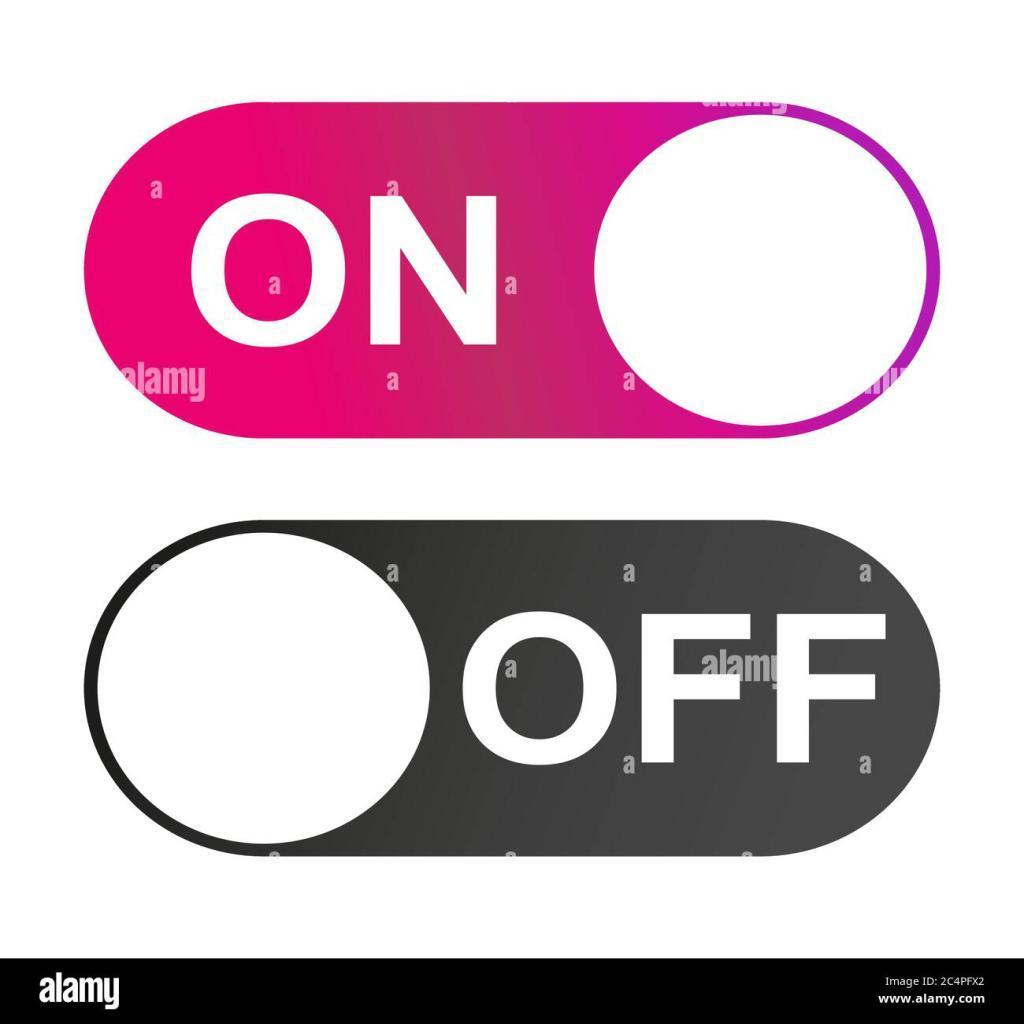switch: (82, 101, 939, 443), (85, 520, 941, 859)
